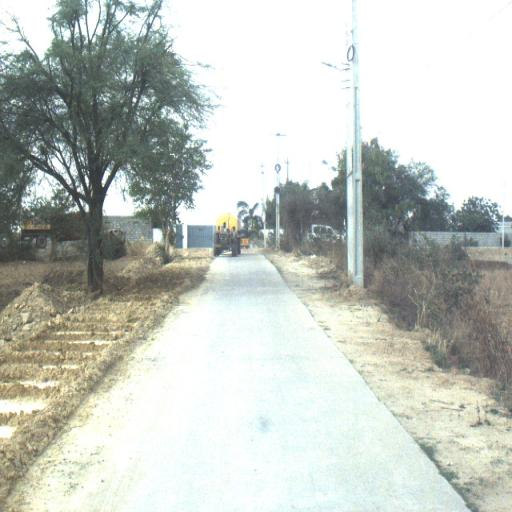street_light_0: (320, 58, 352, 91)
